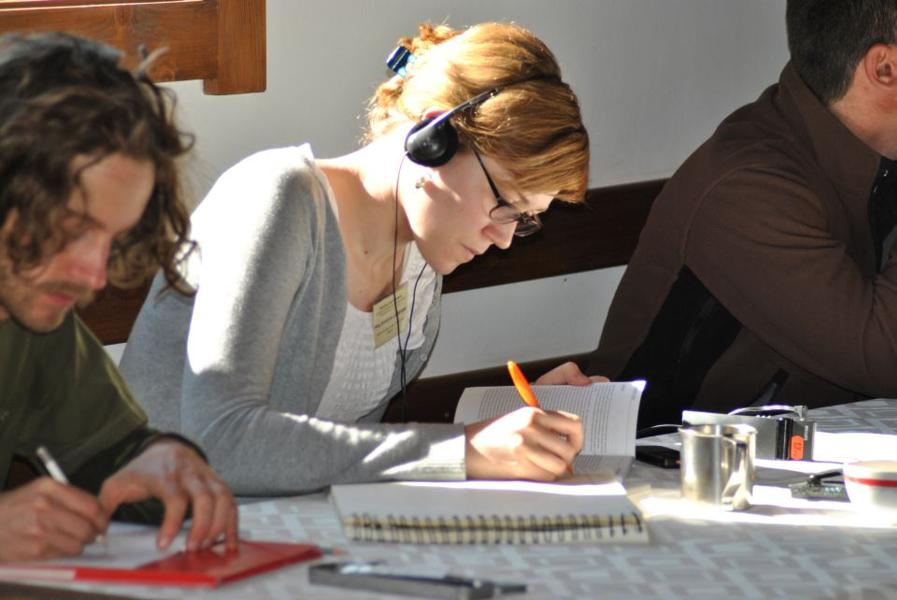person: (115, 24, 610, 500)
